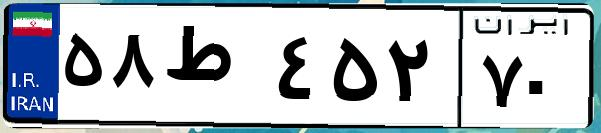0: (525, 38, 570, 115)
2: (385, 28, 445, 110)
4: (270, 28, 330, 110)
5: (330, 28, 385, 110), (57, 26, 110, 100)
7: (475, 38, 525, 113)
8: (110, 28, 158, 98)
ط: (158, 20, 270, 120)
